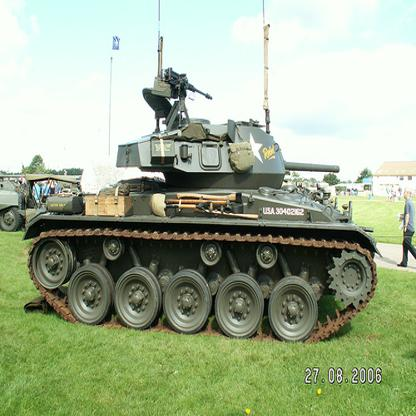Tank: (26, 70, 382, 355)
